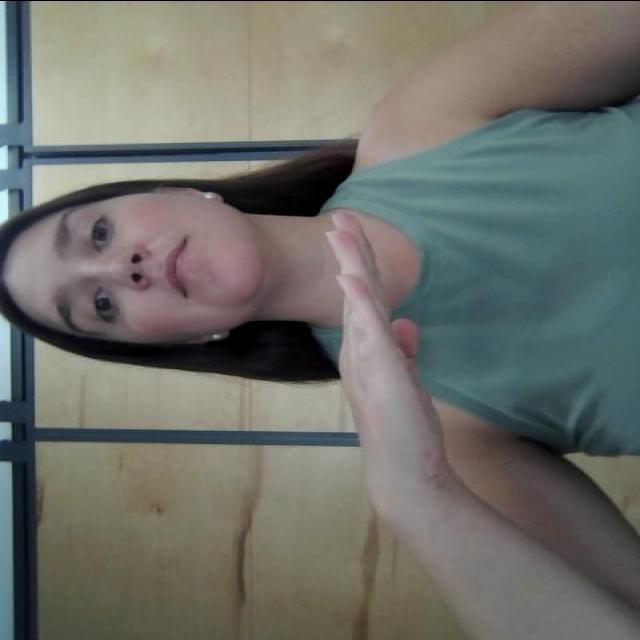Paper: (278, 176, 466, 487)
